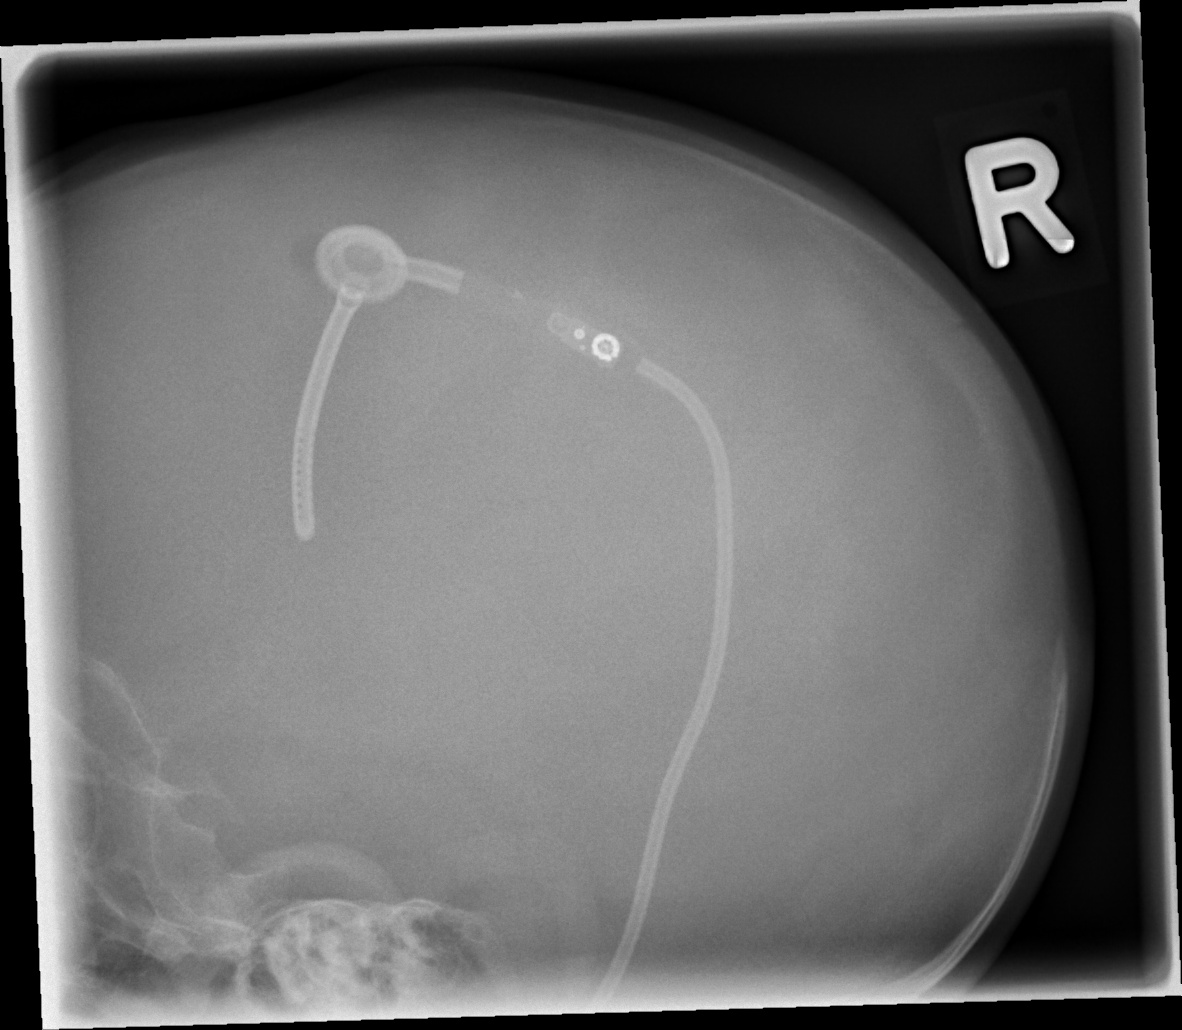Codman Hakim: (549, 307, 629, 378)
